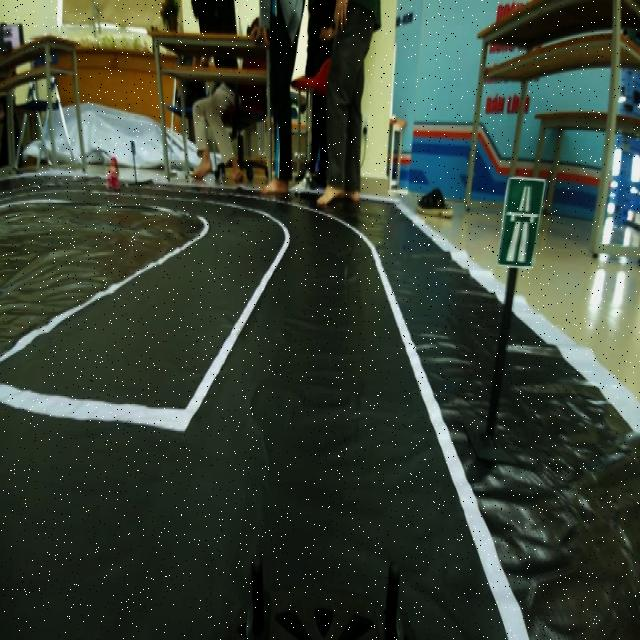highway_entry: (498, 163, 546, 273)
